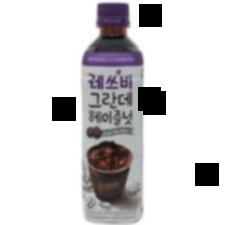letsbe_grande_hazelnut: (78, 3, 144, 223)
